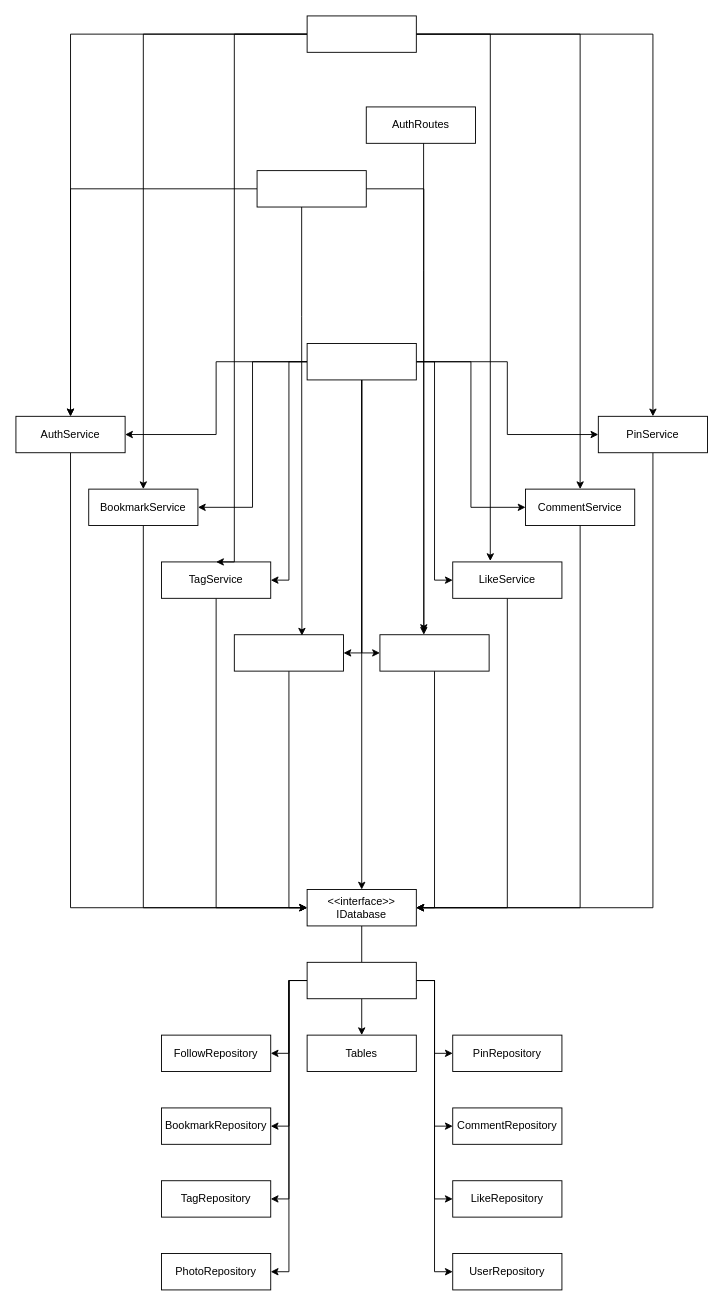
Some shapes in this 723 by 1306 pixel diagram are drawn without their labels. Each missing label, with the box of its shape:
FollowService: (233, 634, 344, 671)
PinRoutes: (306, 15, 416, 52)
PSQLDatabase: (306, 961, 416, 999)
Services: (306, 343, 416, 380)
UserRoutes: (256, 170, 366, 207)
UserService: (379, 634, 489, 671)
